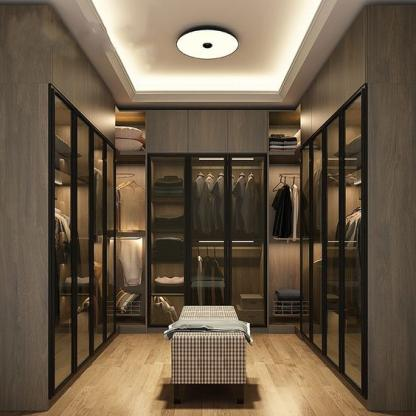Transparent Closet: (115, 108, 297, 334), (48, 88, 116, 390), (302, 89, 367, 398)
